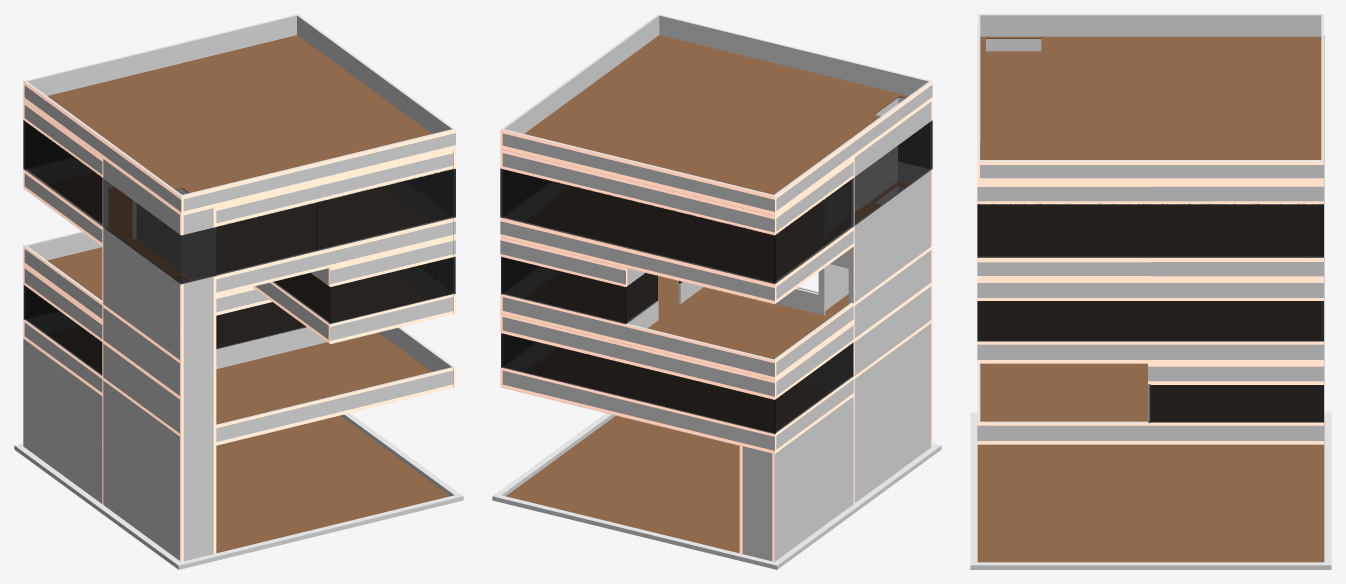
Rendered from tours4.glb.
3 renders of one model, left to right at view 1: azimuth 30°, elevation 25°; view 2: azimuth 150°, elevation 25°; view 3: azimuth 270°, elevation 25°, orthographic. The views are drawn at different scales.
Visible parts, largest first — view 1: murs, polySurface26, sols, vitres, sol_plateform, etages; view 2: murs, polySurface26, sols, vitres, sol_plateform, etages, plafonds; view 3: murs, sols, sol_plateform, vitres, etages, polySurface26, plafonds.
Boxes of the visible parts, bbox=[...] form: murs: bbox=[23, 14, 455, 445]; polySurface26: bbox=[23, 149, 216, 561]; sols: bbox=[47, 35, 431, 424]; vitres: bbox=[23, 120, 455, 375]; sol_plateform: bbox=[14, 413, 463, 569]; etages: bbox=[126, 151, 192, 281]; murs: bbox=[500, 14, 932, 453]; polySurface26: bbox=[739, 93, 932, 561]; sols: bbox=[501, 35, 895, 453]; vitres: bbox=[500, 168, 853, 434]; sol_plateform: bbox=[492, 413, 941, 569]; etages: bbox=[821, 93, 908, 316]; plafonds: bbox=[500, 149, 852, 445]; murs: bbox=[977, 14, 1323, 444]; sols: bbox=[980, 35, 1324, 443]; sol_plateform: bbox=[970, 412, 1331, 569]; vitres: bbox=[977, 203, 1323, 422]; etages: bbox=[980, 36, 1148, 53]; polySurface26: bbox=[980, 36, 1150, 54]; plafonds: bbox=[978, 363, 1324, 444].
Size of what is drawn, in the model's own units: 16 by 19.84 by 16.
Materials: 5 (1 with a texture image).
